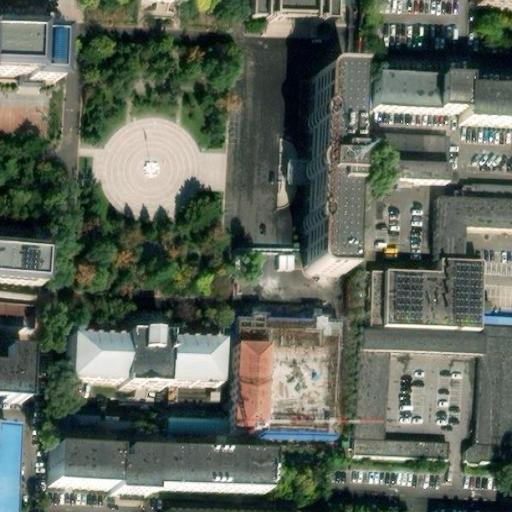building: (349, 335, 512, 461), (230, 315, 335, 428), (299, 73, 342, 274), (65, 326, 221, 377), (117, 449, 267, 499), (436, 205, 512, 265), (367, 279, 435, 338), (0, 24, 63, 80), (364, 76, 437, 121), (243, 0, 343, 32), (50, 447, 118, 494), (433, 264, 475, 339), (0, 417, 24, 512), (0, 356, 33, 409), (370, 167, 449, 189), (463, 87, 512, 122), (164, 414, 228, 434), (0, 294, 38, 326), (435, 79, 461, 123), (460, 186, 512, 207), (377, 12, 415, 39)
